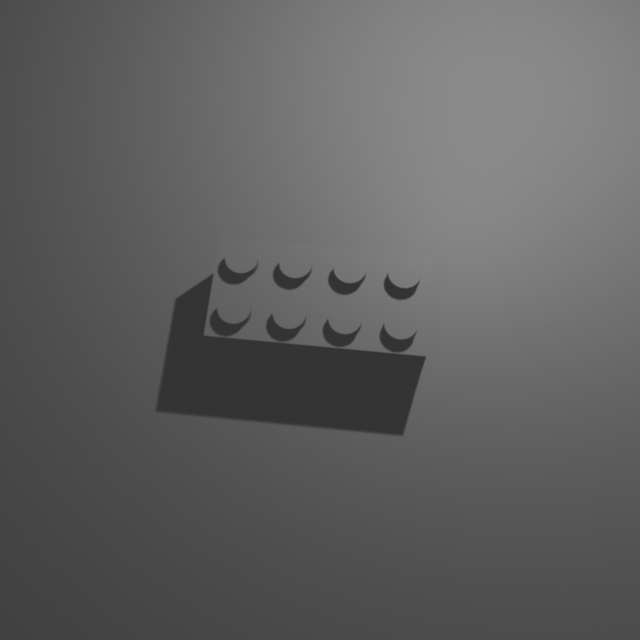lego_2x4: (202, 232, 433, 378)
